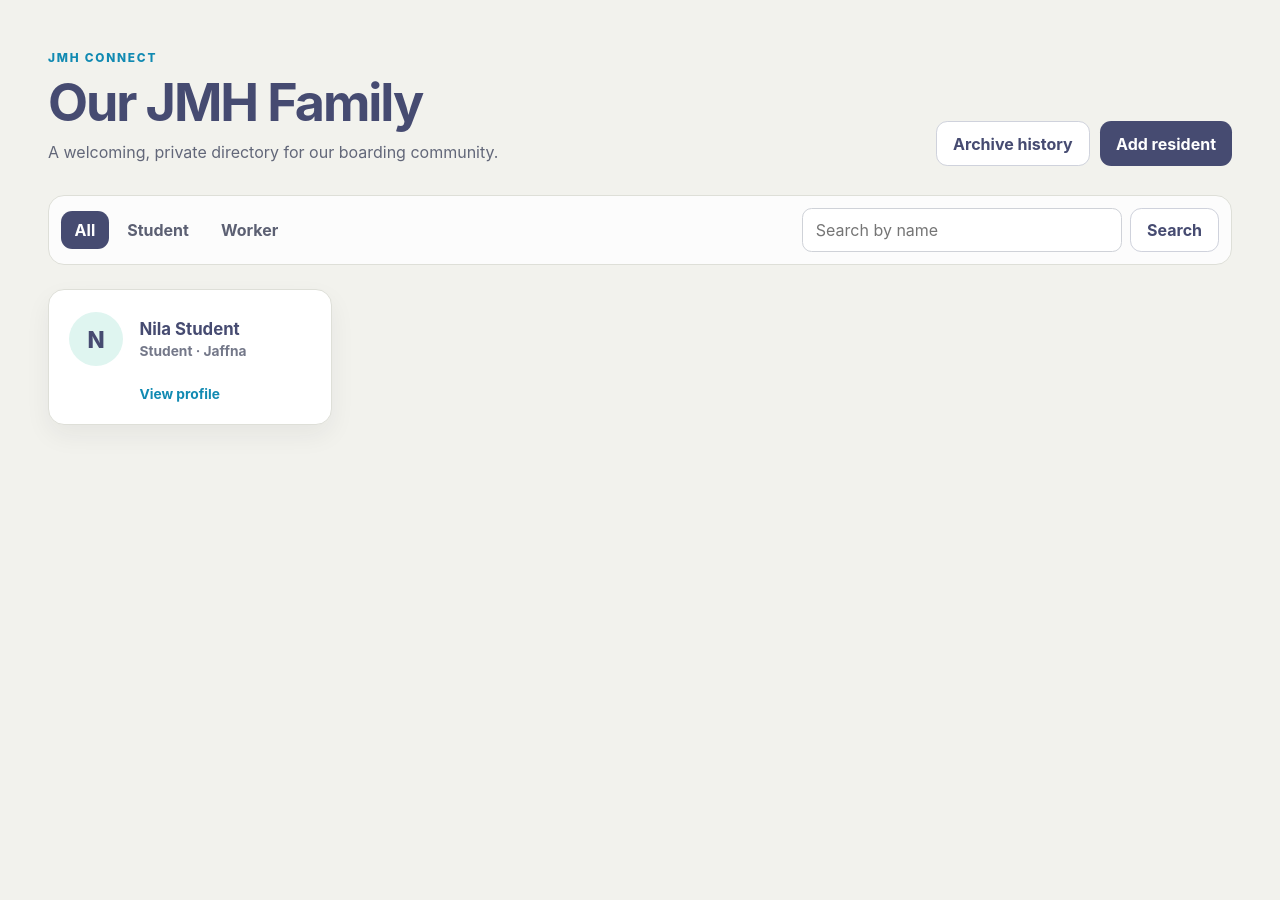
Test: MemberDirectoryComponent › gives a Pastor the complete resident form and audit history
Click the button with class "member-card": (190,357) [48,289,332,425]
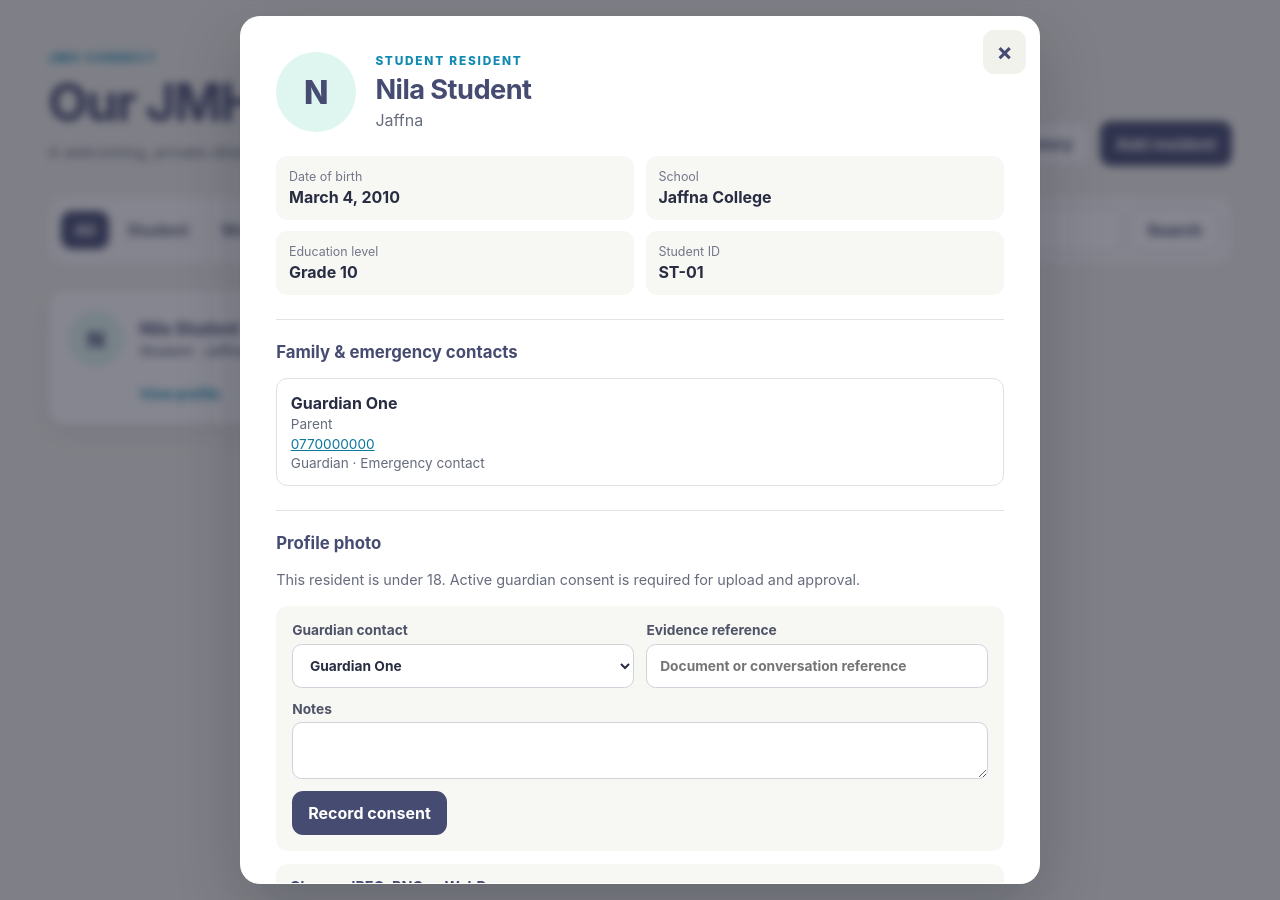
Check: the text "Active guardian consent is required" is shown, box [276,572,860,588]
Click the button with class "close": (1005,52) [983,30,1026,74]
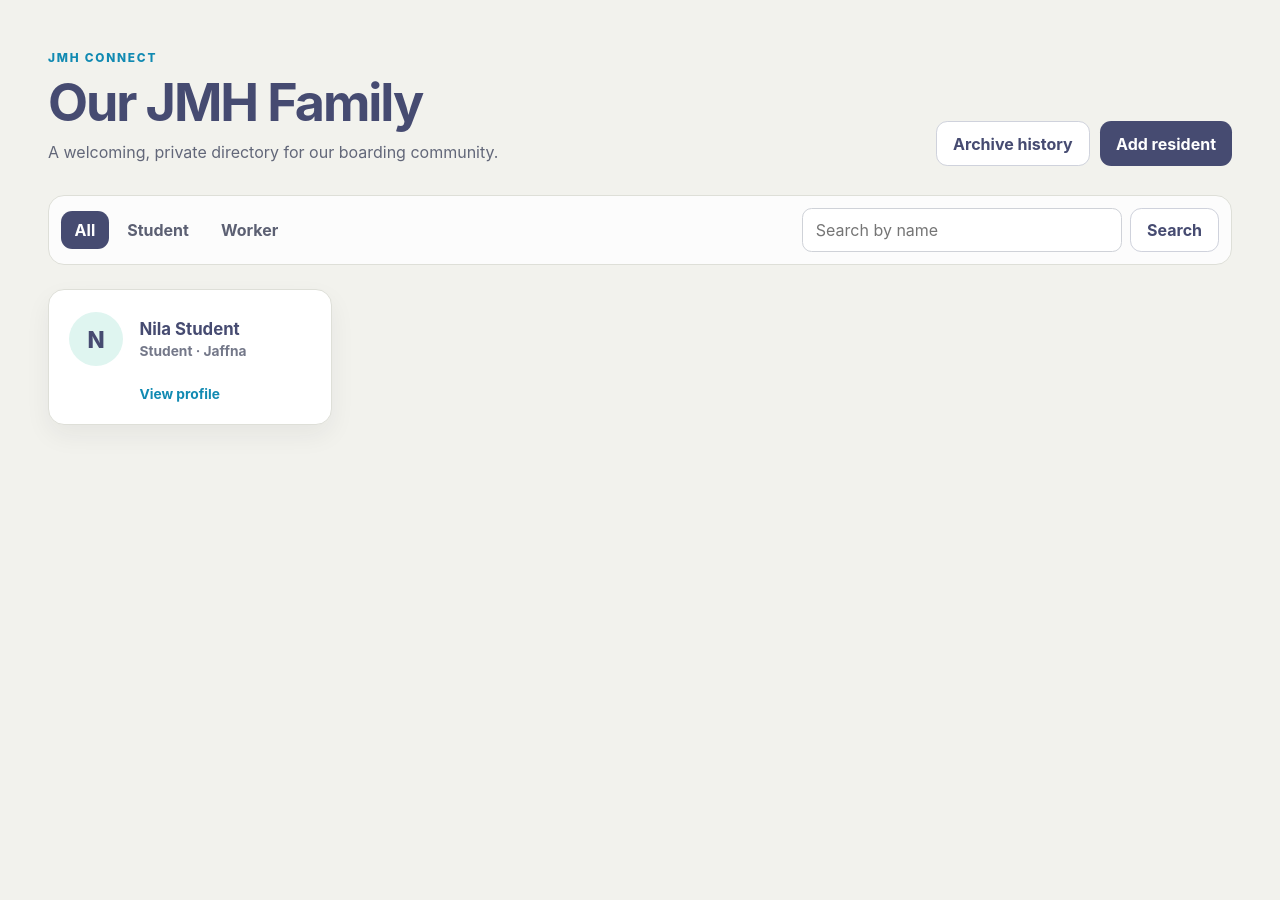
Click the button "Add resident": (1166,144) [1100,121,1232,166]
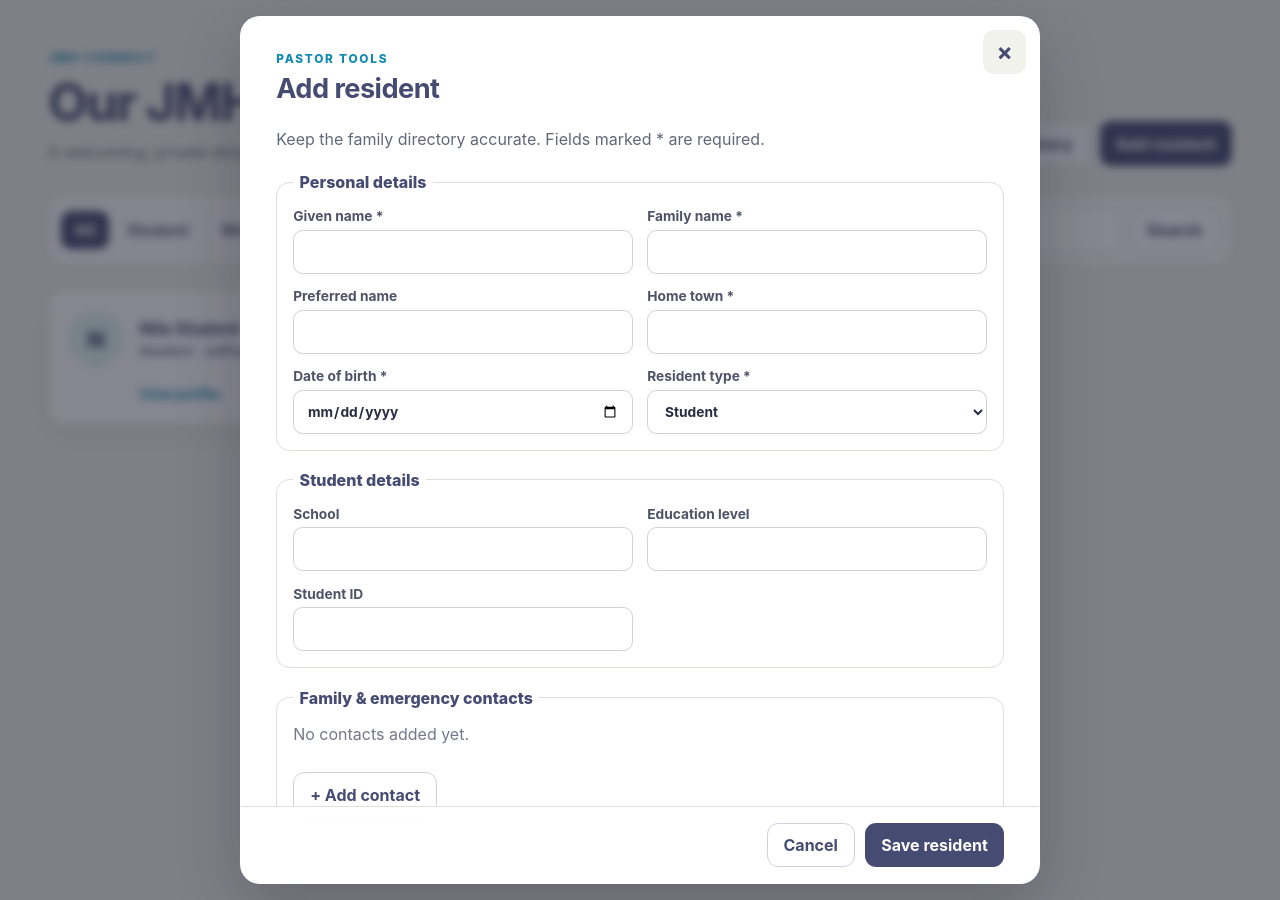
Check: the text "Date of birth" is shown, box [293,368,388,384]
Check: the text "Student ID" is shown, box [293,586,633,652]
Check: the text "Add contact" is shown, box [293,772,437,817]
